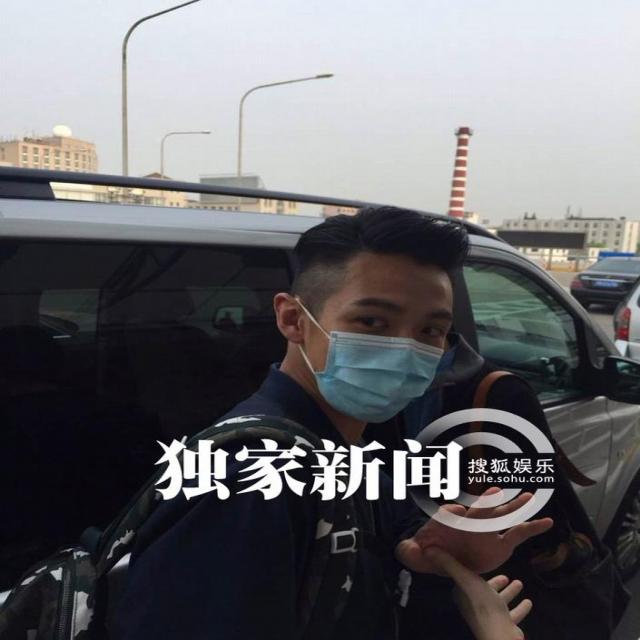mask: (310, 258, 453, 422)
